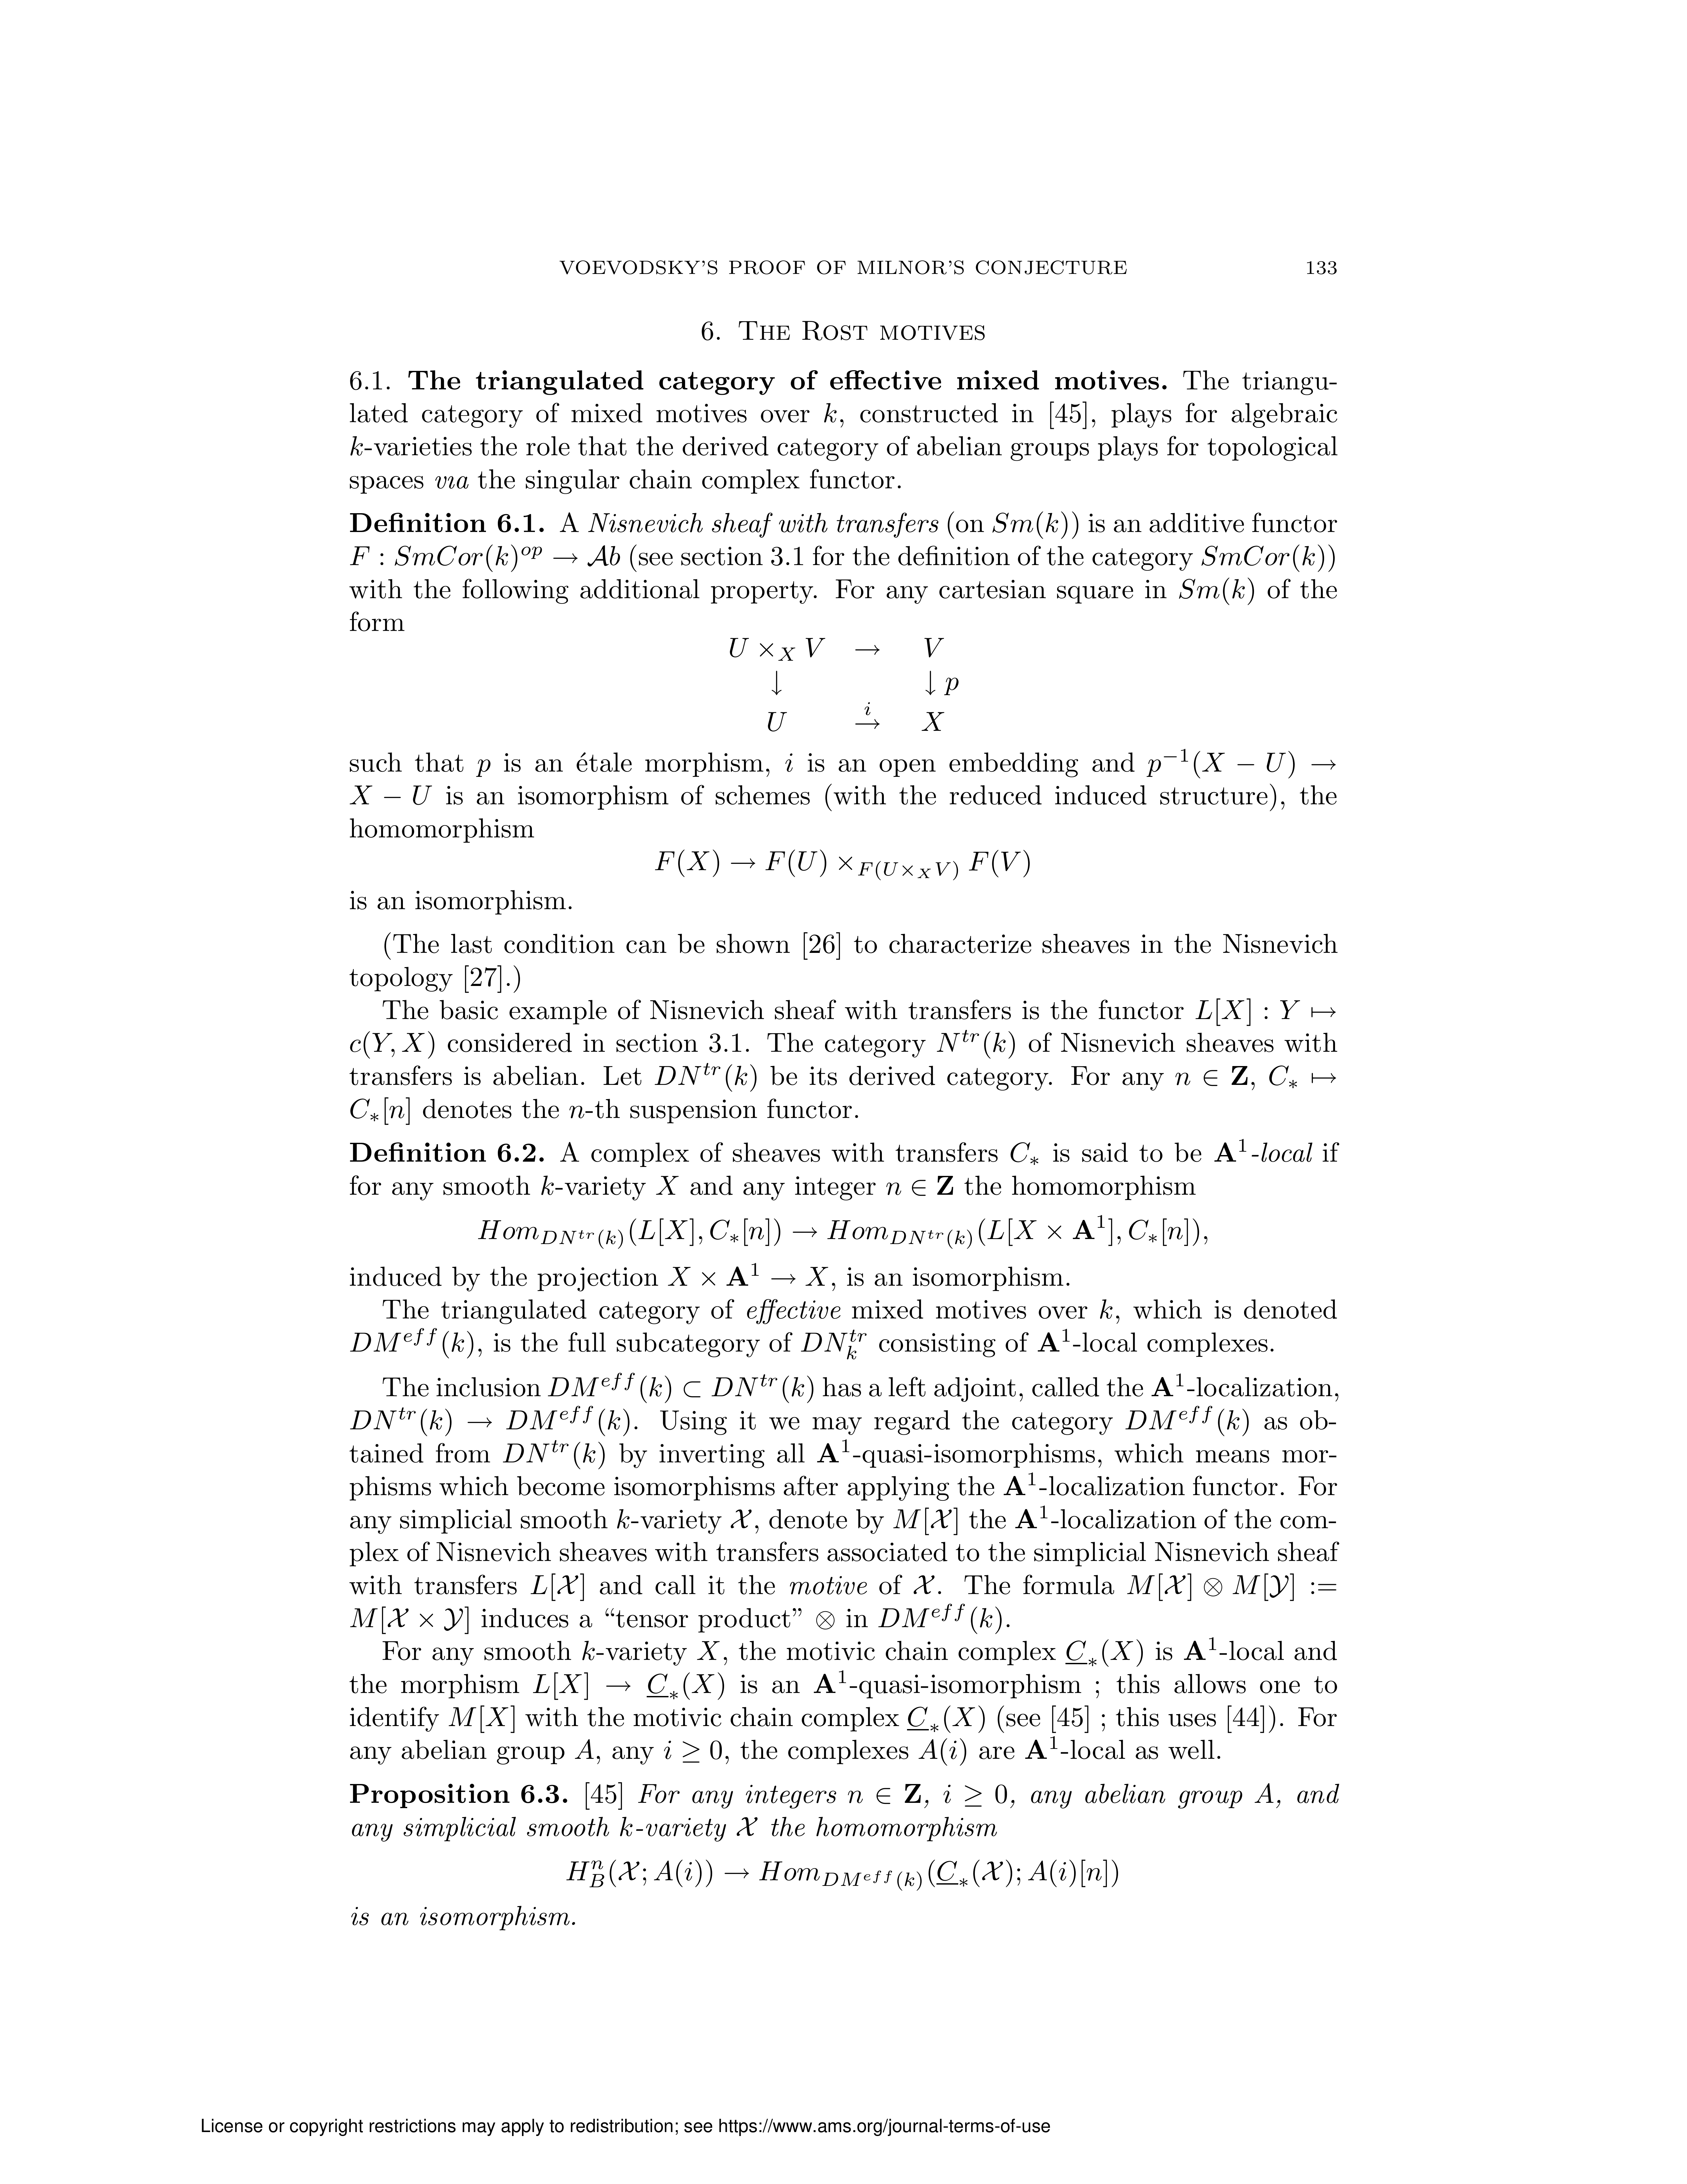expr: (149, 704, 1210, 805), (431, 1530, 920, 1613), (299, 1360, 881, 1429), (404, 826, 957, 895), (145, 1672, 564, 1755), (200, 1069, 656, 1136), (463, 975, 897, 1039), (663, 381, 994, 461), (314, 594, 555, 663), (324, 507, 521, 589), (987, 1271, 1200, 1319), (260, 312, 383, 374), (959, 1092, 1088, 1122), (634, 330, 780, 351), (760, 472, 863, 496), (571, 472, 672, 496), (810, 1273, 907, 1298), (923, 1638, 1019, 1663), (576, 406, 645, 431), (523, 1454, 601, 1475), (250, 1636, 315, 1661), (964, 1384, 1040, 1406), (296, 402, 351, 427), (399, 1273, 441, 1298), (578, 330, 610, 353), (470, 1307, 494, 1328), (200, 523, 223, 544), (1042, 328, 1060, 355), (415, 277, 436, 296), (578, 617, 597, 638), (945, 617, 957, 638), (1061, 479, 1074, 491), (854, 626, 867, 638), (999, 284, 1010, 296)
